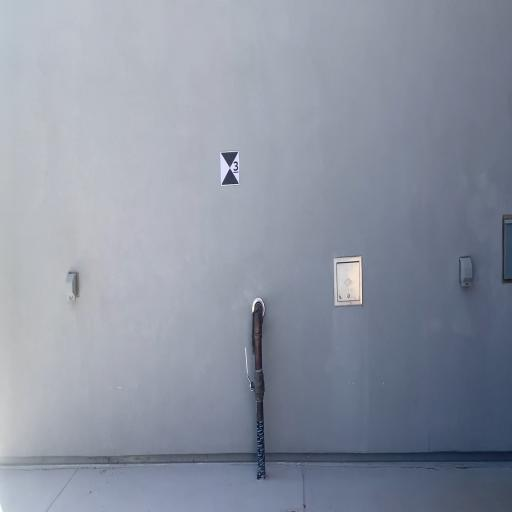target3: (220, 150, 240, 187)
